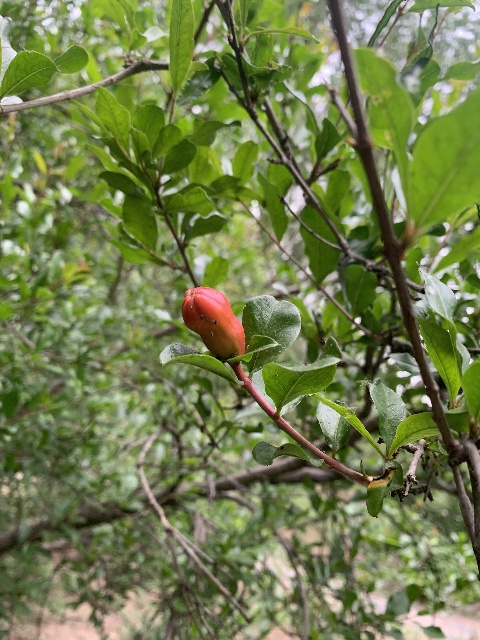bud: (181, 286, 245, 360)
